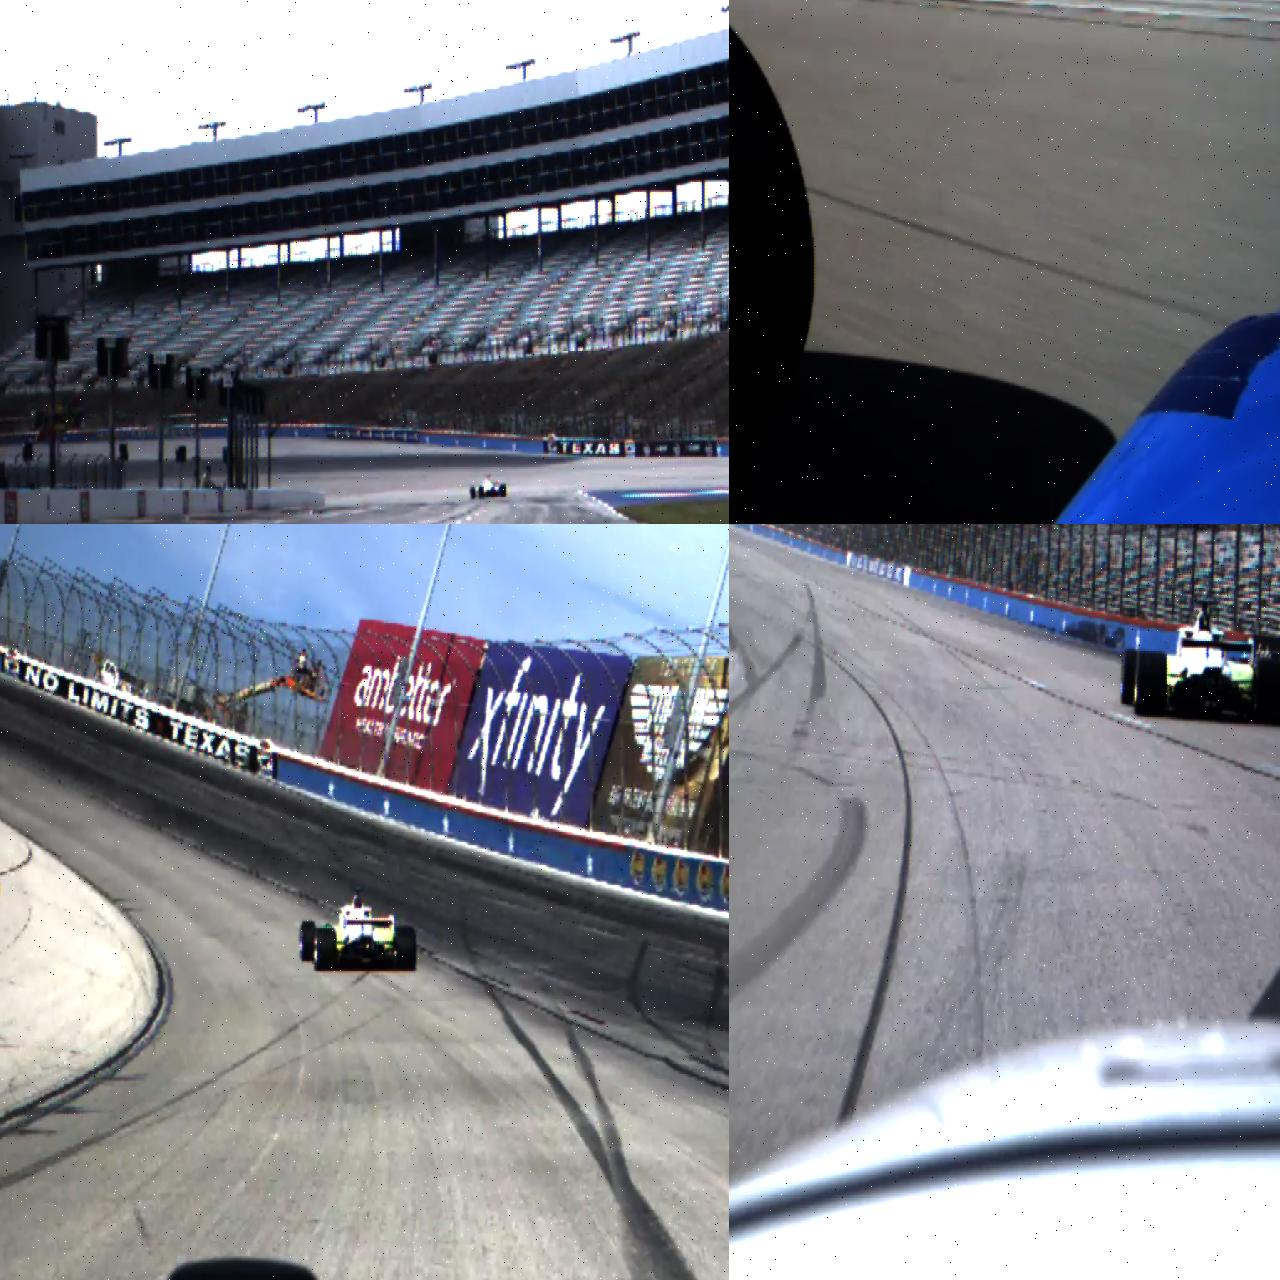AV: (1121, 598, 1280, 726), (299, 886, 417, 972), (470, 475, 506, 499)
Wheel: (729, 0, 816, 524), (1135, 652, 1166, 717), (1257, 658, 1280, 726), (1121, 649, 1144, 704), (314, 928, 338, 971), (396, 926, 416, 971), (300, 921, 316, 961), (478, 486, 484, 499), (470, 486, 476, 499), (501, 484, 506, 497)
